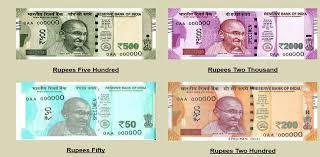fiveHundred: (22, 16, 145, 52)
